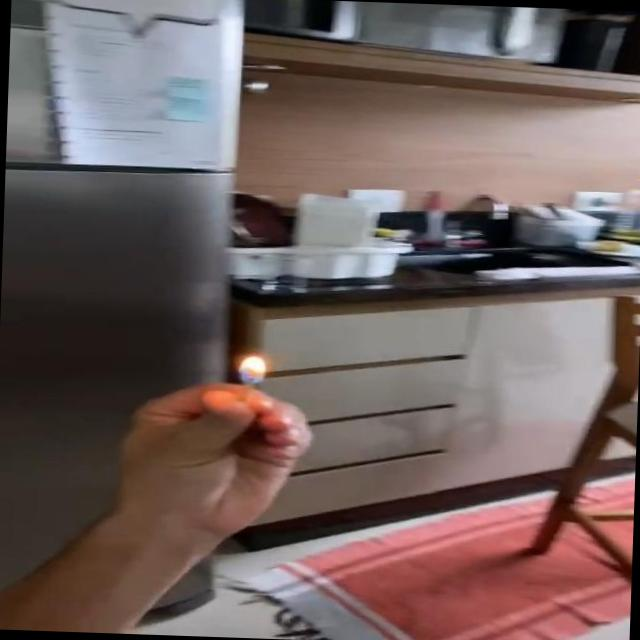Fire: (234, 350, 266, 388)
